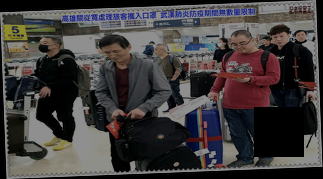with_mask: (37, 39, 54, 54), (216, 40, 224, 49)
without_mask: (103, 48, 127, 64), (230, 39, 253, 54), (271, 33, 289, 48), (296, 32, 308, 42), (153, 47, 163, 57), (262, 39, 268, 45)
